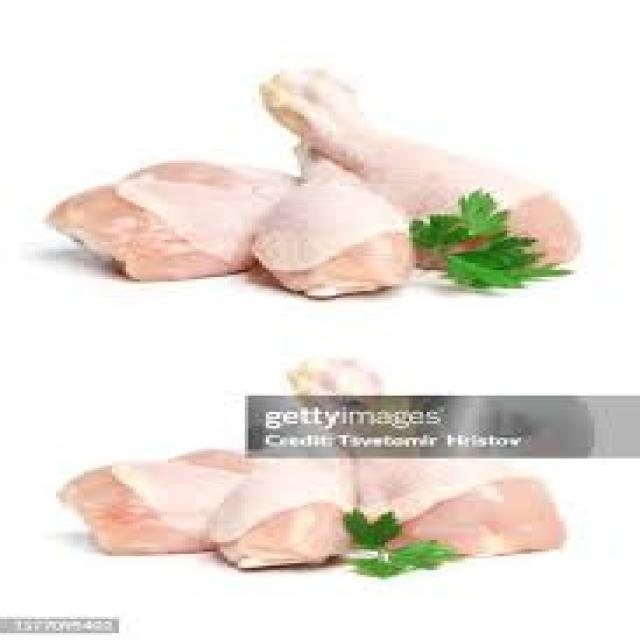leg: (261, 67, 588, 265), (291, 352, 564, 560), (38, 150, 292, 272), (212, 393, 366, 565), (252, 144, 417, 304), (72, 447, 286, 548)
